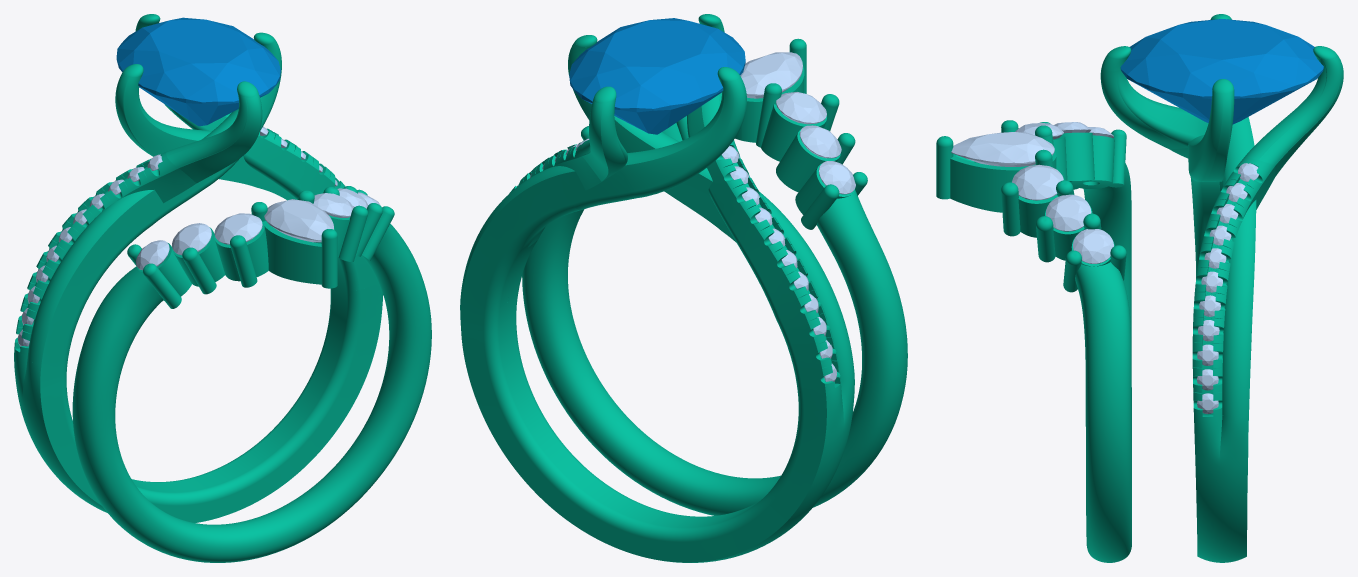
3 views of the same model, side by side, from view 1: azimuth 30°, elevation 25°; view 2: azimuth 150°, elevation 25°; view 3: azimuth 270°, elevation 25° (orthographic). The views are drawn at different scales.
Visible parts, largest first — view 1: VR763(front).3dm, Diamond_Oval, Head Prong (×7), Bezel (×4), Diamond_Round (×4), Diamond_Pear; view 2: VR763(front).3dm, Diamond_Oval, Bezel (×4), Diamond_Round (×3), Diamond_Pear, Head Prong (×2); view 3: VR763(front).3dm, Diamond_Oval, Bezel (×5), Head Prong (×5), Diamond_Round (×3), Diamond_Pear.
Boxes of the visible parts, bbox=[...] form: VR763(front).3dm: bbox=[14, 14, 431, 562]; Diamond_Oval: bbox=[116, 17, 280, 126]; Head Prong (×7): bbox=[143, 203, 394, 308]; Bezel (×4): bbox=[137, 221, 334, 300]; Diamond_Round (×4): bbox=[136, 193, 353, 270]; Diamond_Pear: bbox=[264, 199, 333, 242]; VR763(front).3dm: bbox=[460, 14, 907, 562]; Diamond_Oval: bbox=[569, 18, 745, 134]; Bezel (×4): bbox=[735, 66, 854, 214]; Diamond_Round (×3): bbox=[776, 92, 855, 194]; Diamond_Pear: bbox=[740, 52, 802, 98]; Head Prong (×2): bbox=[756, 83, 839, 229]; VR763(front).3dm: bbox=[1075, 14, 1343, 562]; Diamond_Oval: bbox=[1120, 19, 1323, 124]; Bezel (×5): bbox=[950, 132, 1114, 260]; Head Prong (×5): bbox=[936, 129, 1126, 292]; Diamond_Round (×3): bbox=[1012, 164, 1113, 263]; Diamond_Pear: bbox=[951, 132, 1054, 166].
Size of the model in its own units: 2.12 by 2.74 by 2.01.
